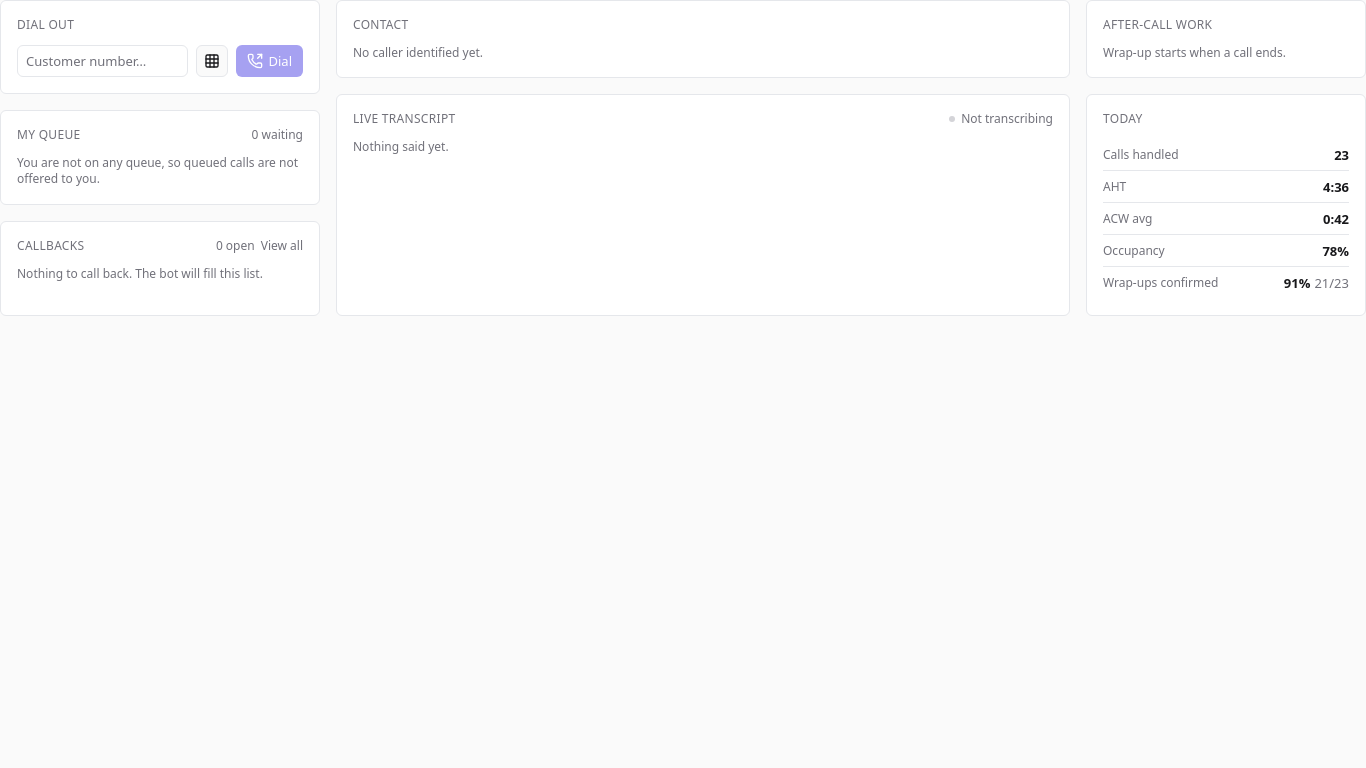
it: dial out › composes a number on the keypad
Click the button named "keypad" at [212, 61], box [196,45,228,77]
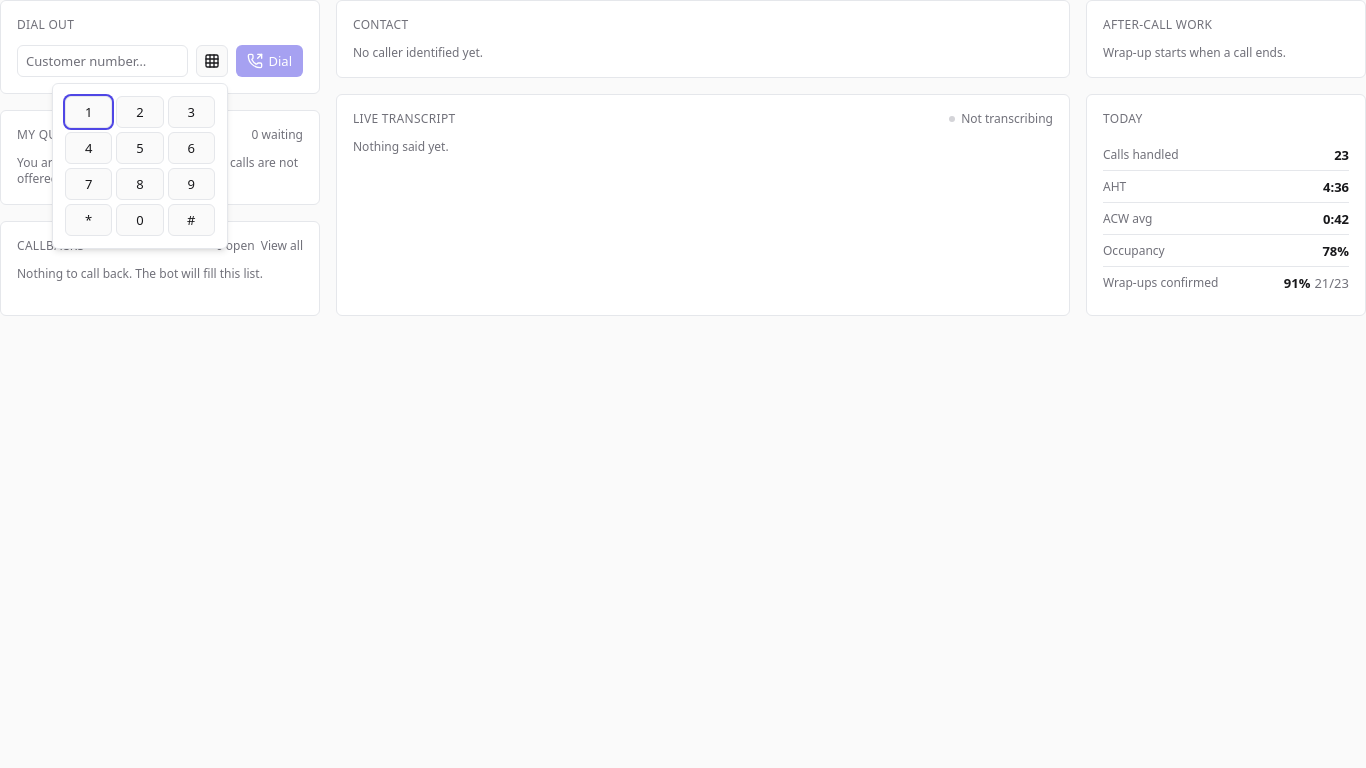
Click the button "4" at [89, 148], box [65,132,112,164]
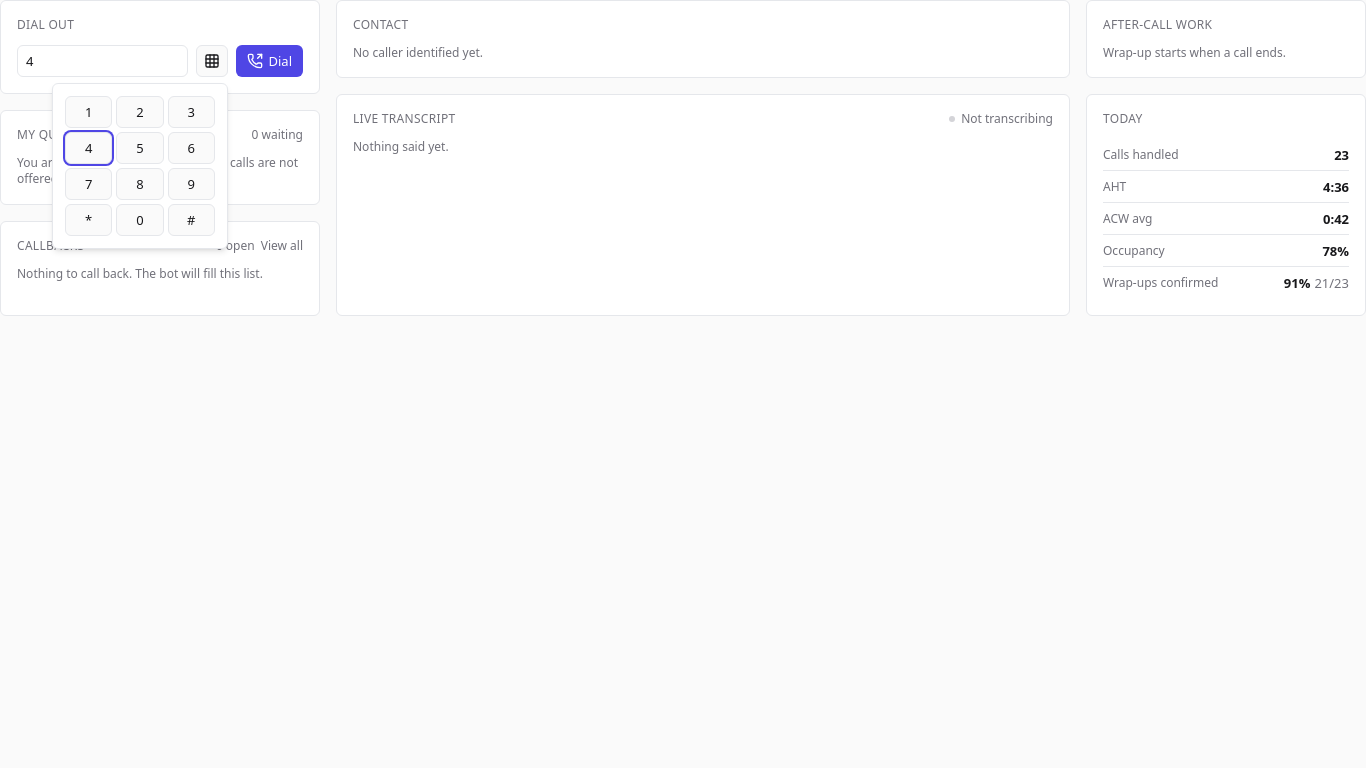
Click the button "2" at [140, 112], box [116,96,164,128]
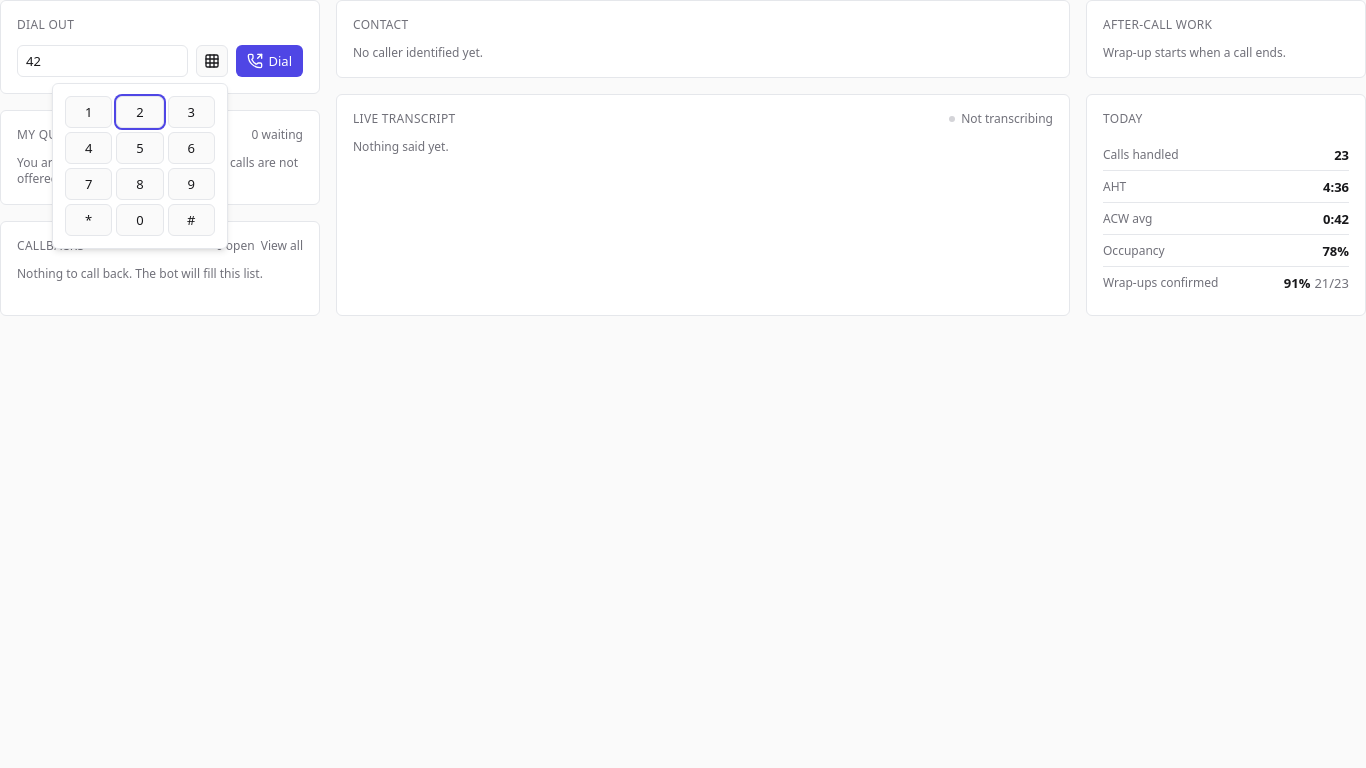
Result: the field with placeholder "Customer number…" holds "42" at [17,45,188,77]
